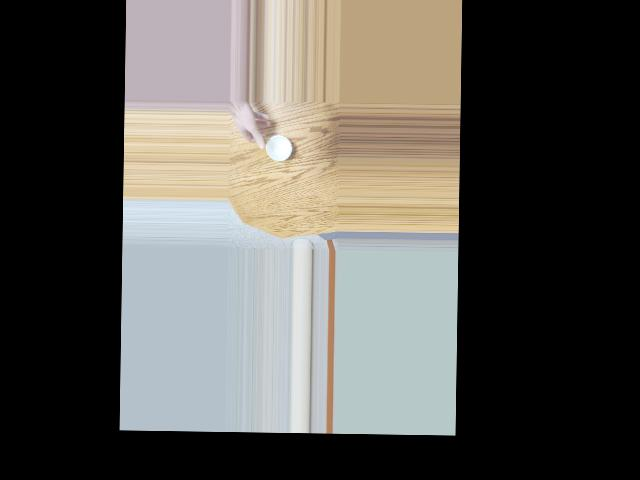cotage: (258, 129, 294, 166)
